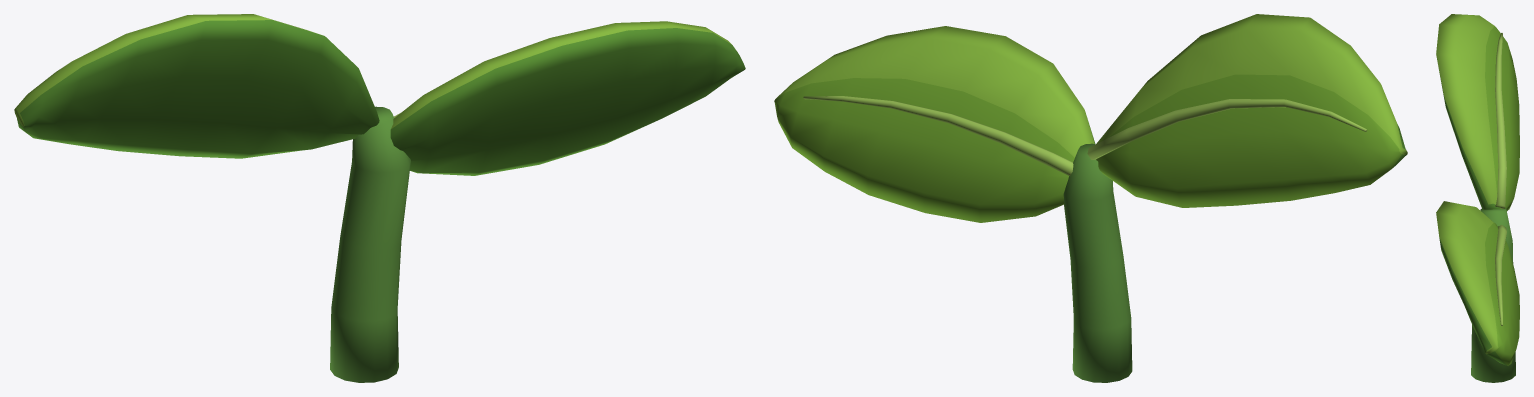
The model's file is Cosmetic_Sapling.glb.
The picture shows the model from 3 angles, left to right: view 1: azimuth 30°, elevation 25°; view 2: azimuth 150°, elevation 25°; view 3: azimuth 270°, elevation 25°; orthographic projection. The views are drawn at different scales.
Parts seen in each view (by area): view 1: Cosmetic_Sapling; view 2: Cosmetic_Sapling; view 3: Cosmetic_Sapling.
Boxes of the visible parts, bbox=[...] form: Cosmetic_Sapling: bbox=[14, 14, 745, 382]; Cosmetic_Sapling: bbox=[774, 14, 1407, 382]; Cosmetic_Sapling: bbox=[1436, 14, 1519, 382].
Size of the model in its own units: 0.6761 by 0.3811 by 0.1019.
